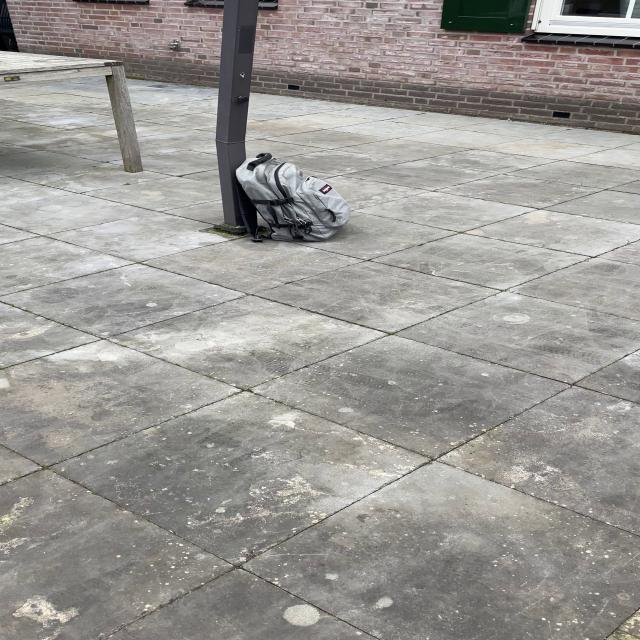backpack: (226, 151, 355, 245)
